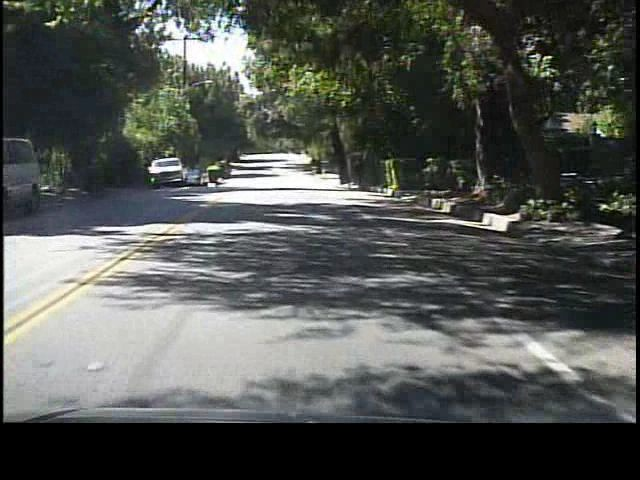person: (352, 153, 369, 191)
